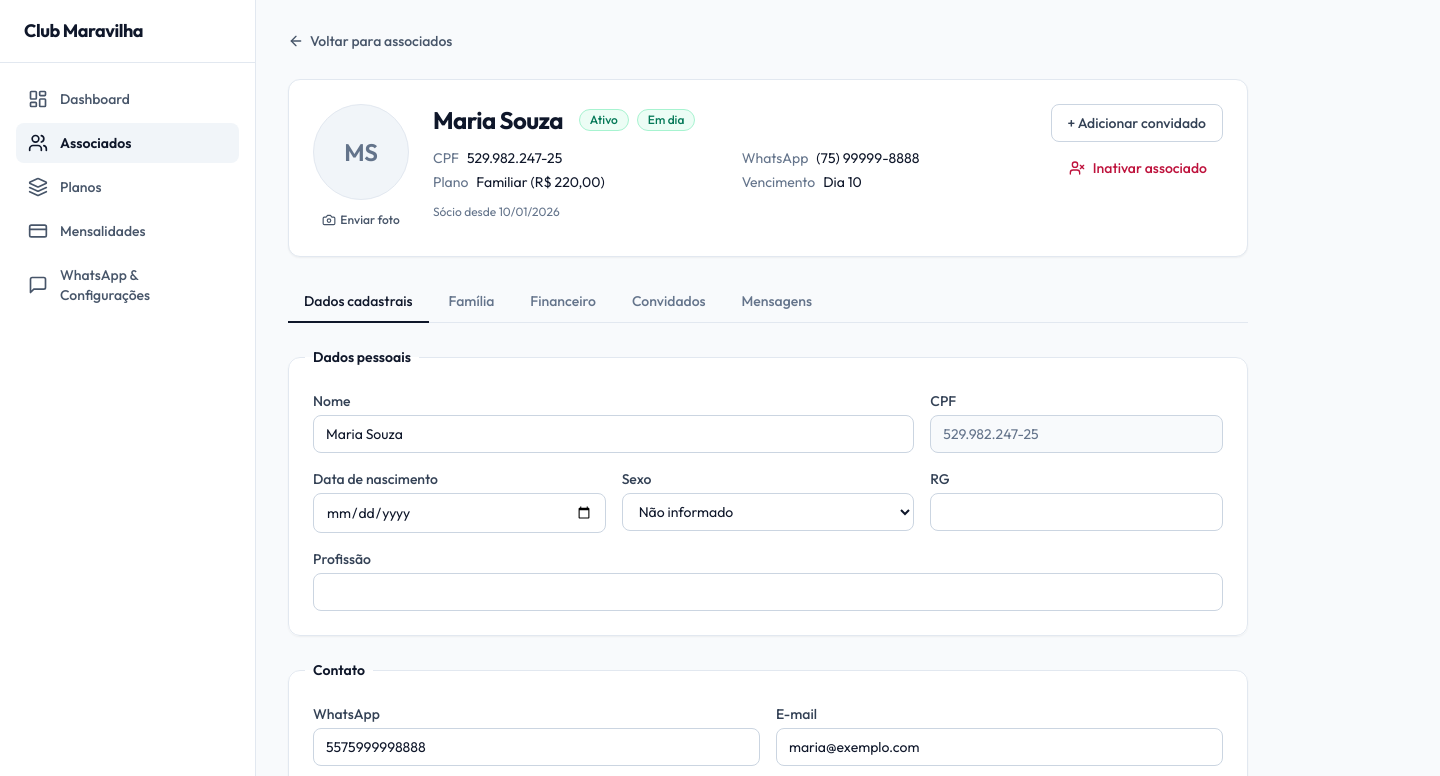
Test: FichaAssociadoPage - dados cadastrais › edita via PATCH sem enviar CPF
Expected: the field labelled "CPF" is disabled, [930,415,1223,453]
Replace the text in the field labelled "Nome" with "Maria Souza Lima": (614, 434) [313,415,914,453]
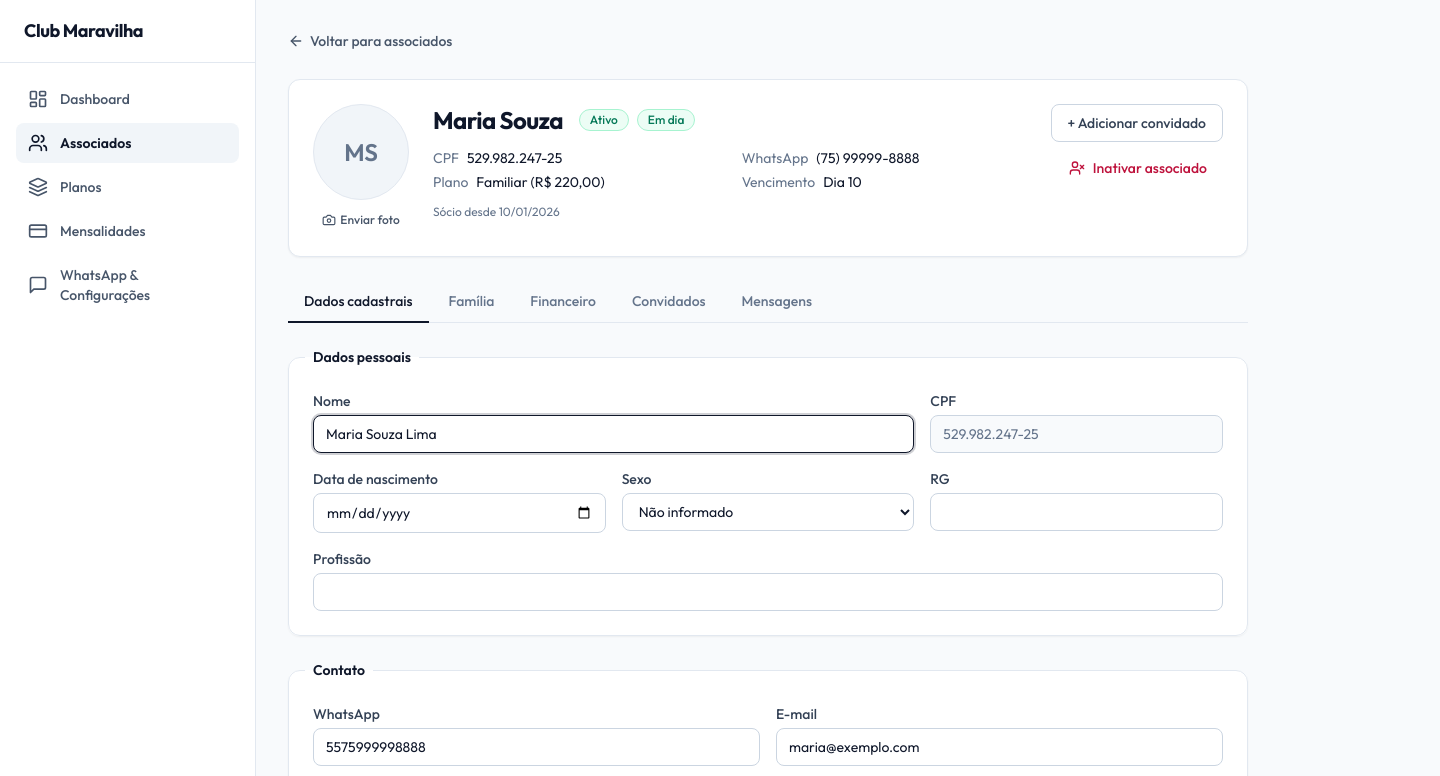
In the field labelled "Profissão": (768, 592) [313,573,1223,611], type "Médica"
(page scrolled)
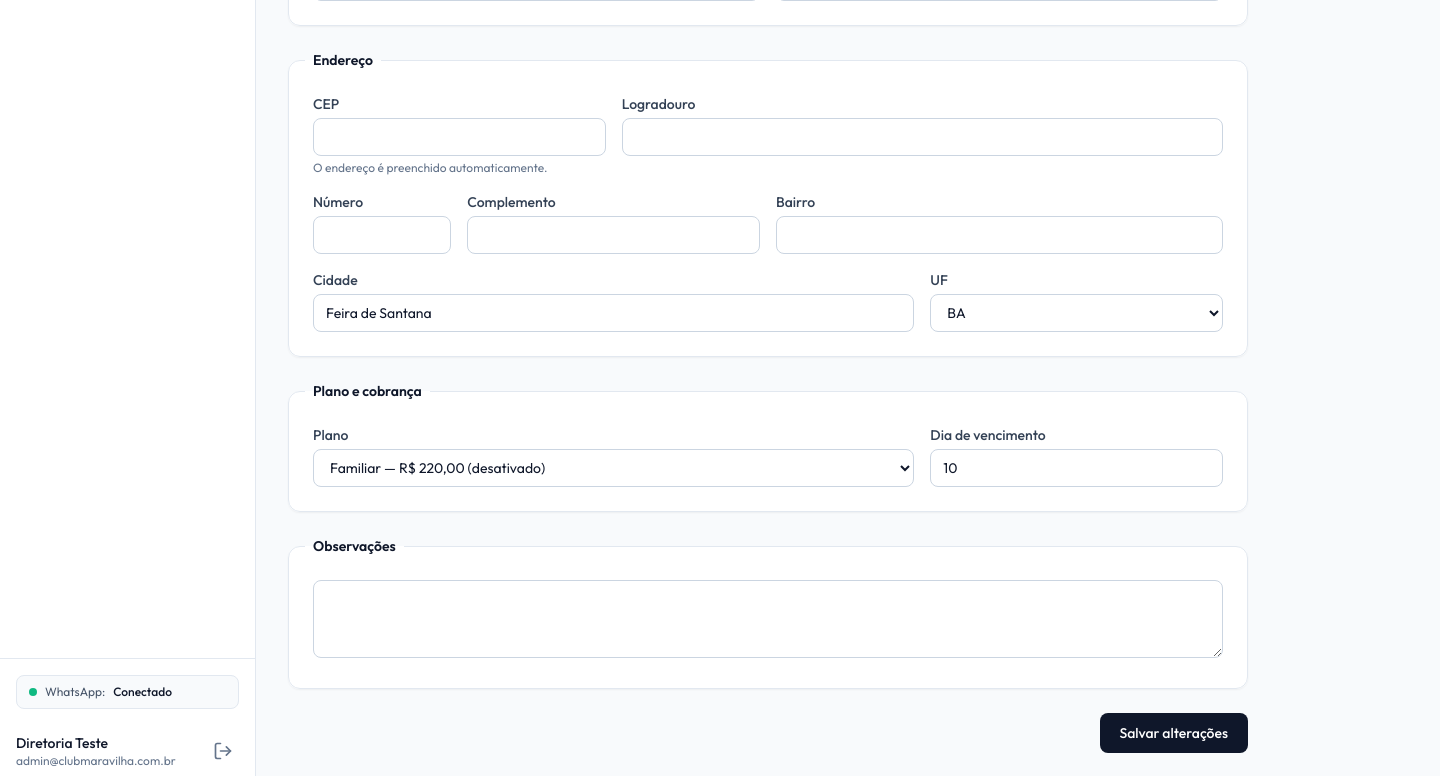
Click the button "Salvar alterações": click(1174, 733) [1100,713,1248,753]
(page scrolled)
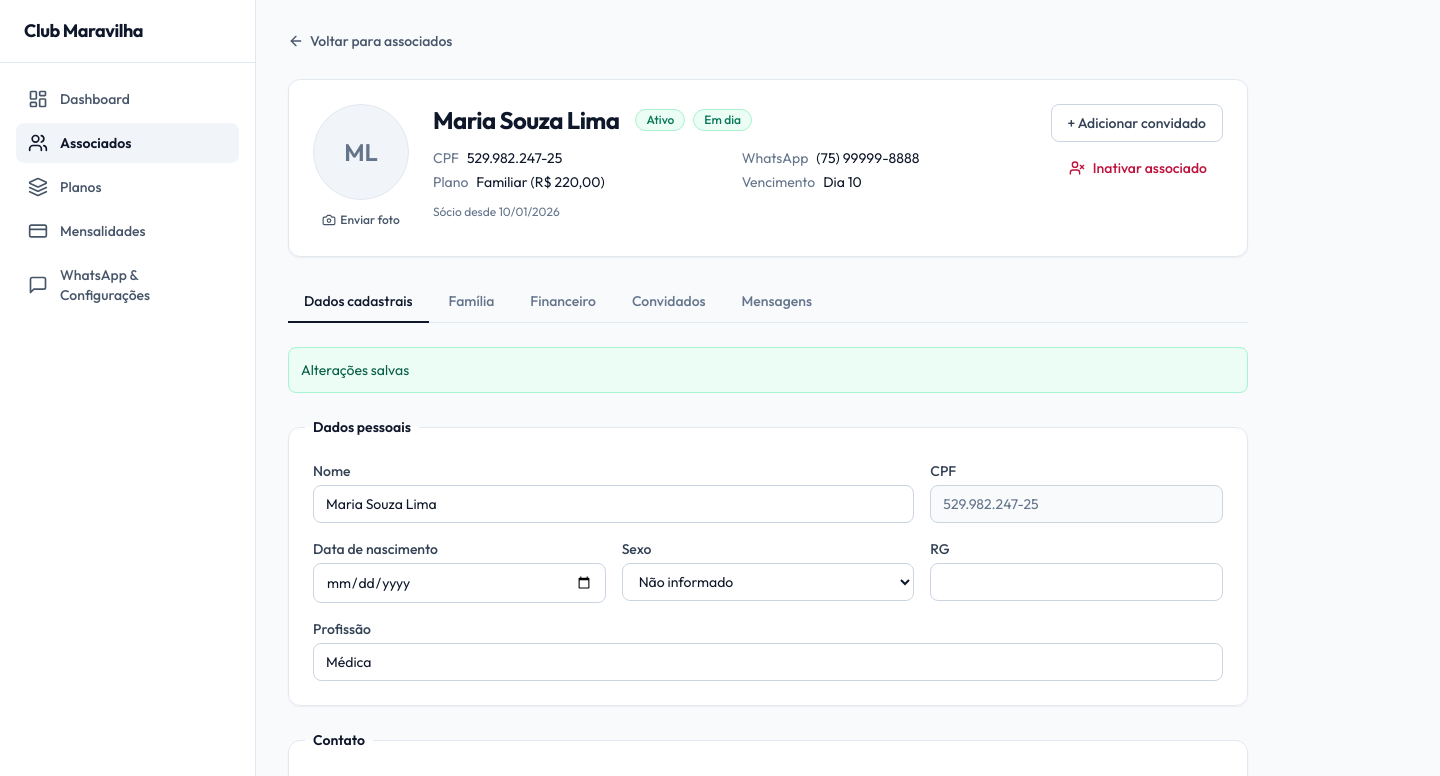
Expected: the text "Alterações salvas" is shown, [288,347,1248,393]
Expected: the heading "Maria Souza Lima" is shown, [433,104,619,136]
